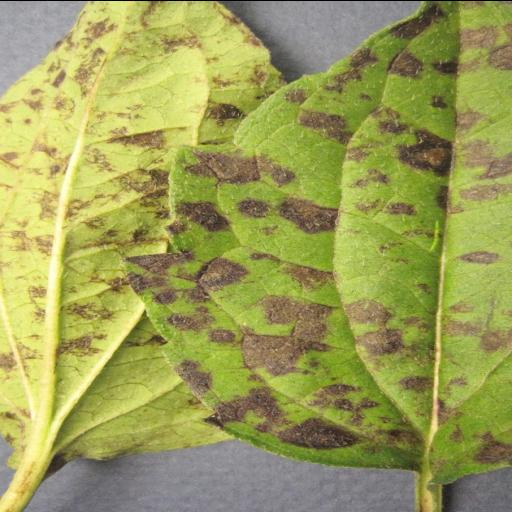Septoria: (117, 0, 511, 482), (0, 0, 292, 476)
